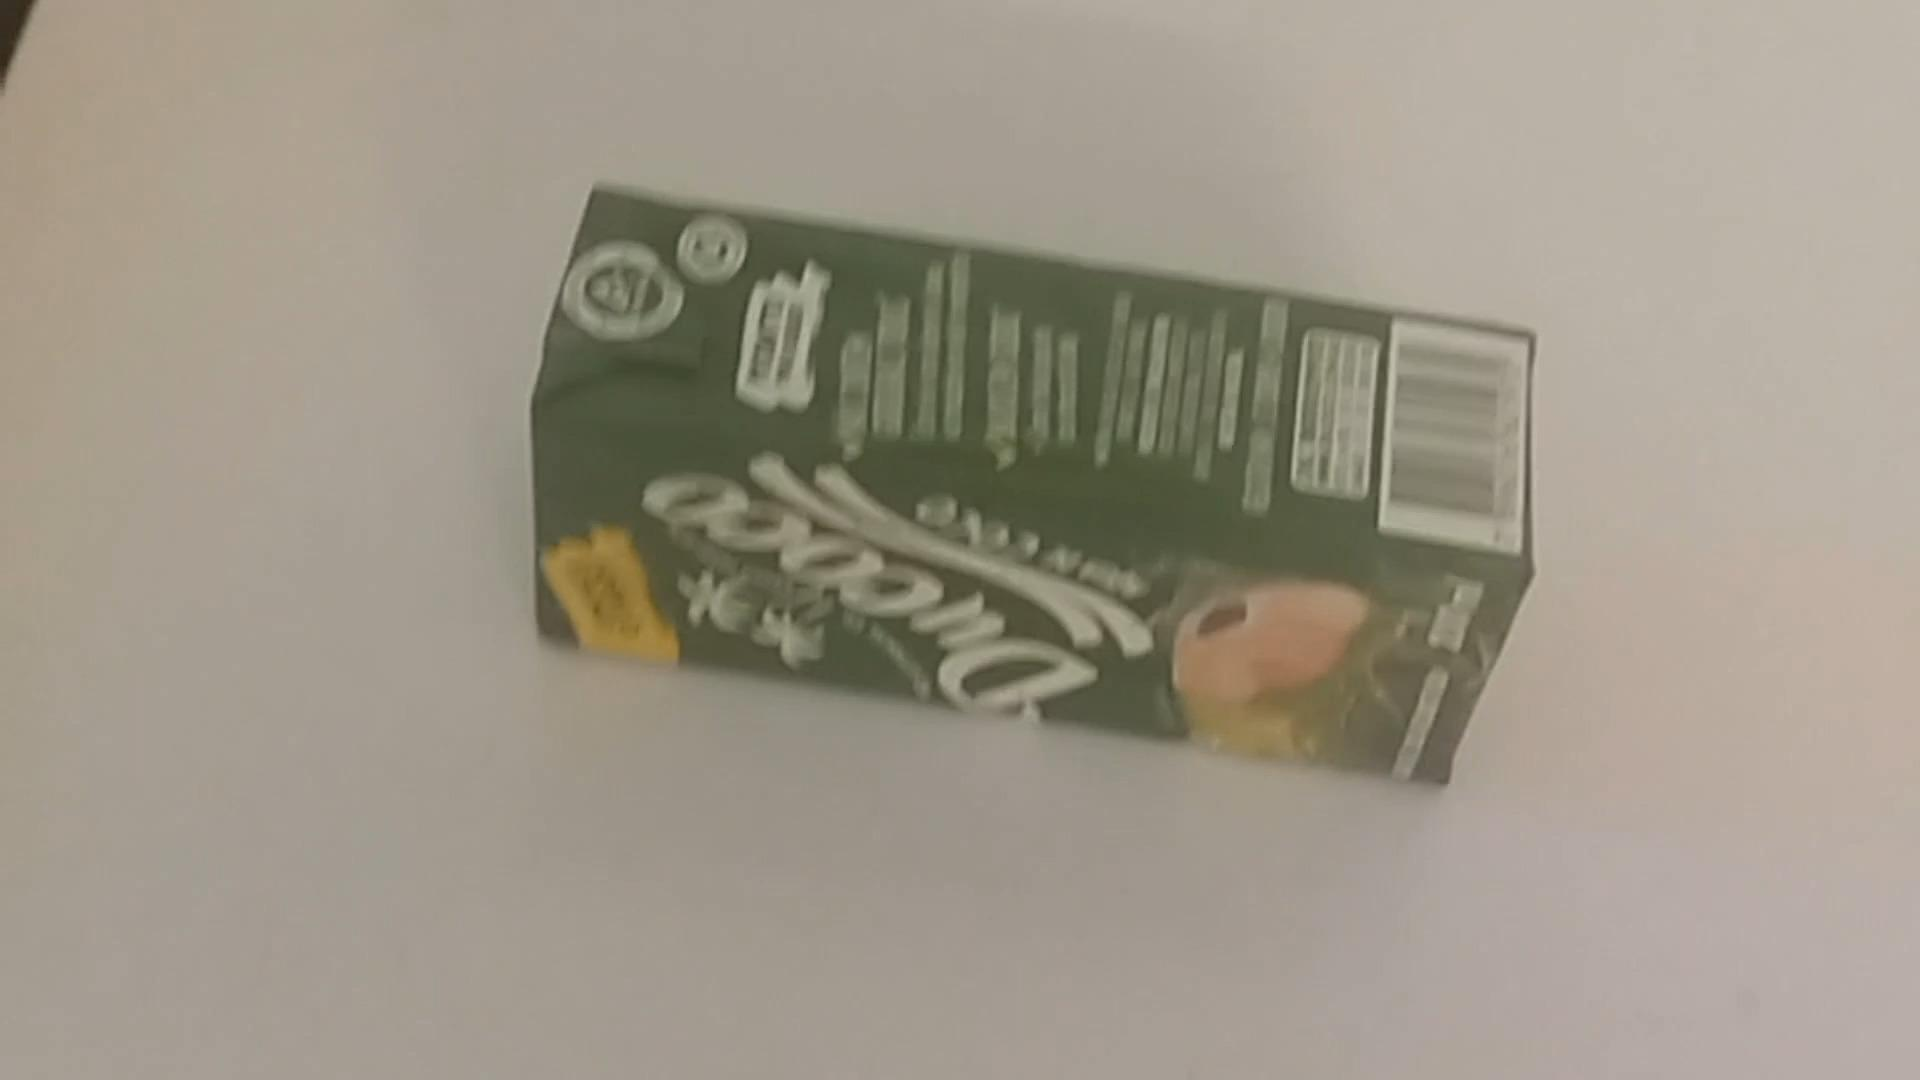coco: (483, 175, 1549, 810)
